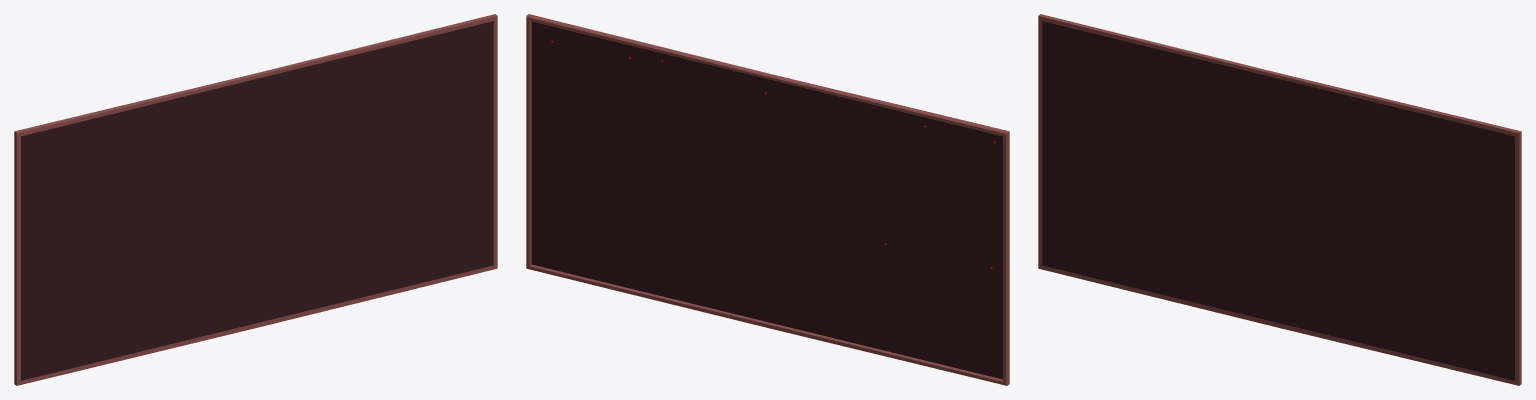
Rendered from Desk.fbx.
The picture shows the model from 3 angles, left to right: view 1: azimuth 30°, elevation 25°; view 2: azimuth 150°, elevation 25°; view 3: azimuth 330°, elevation 25°; orthographic projection.
Visible parts, largest first — view 1: Cube.003; view 2: Cube.003; view 3: Cube.003.
Boxes of the visible parts, x1,y1,x2,y2 form: Cube.003: [14, 14, 497, 385]; Cube.003: [526, 14, 1009, 385]; Cube.003: [1038, 14, 1521, 385].
Size of the model in its own units: 253 by 127 by 2.7.
